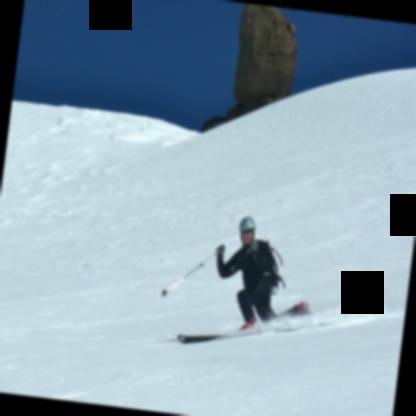backpack: (254, 239, 275, 267), (271, 263, 285, 295)
